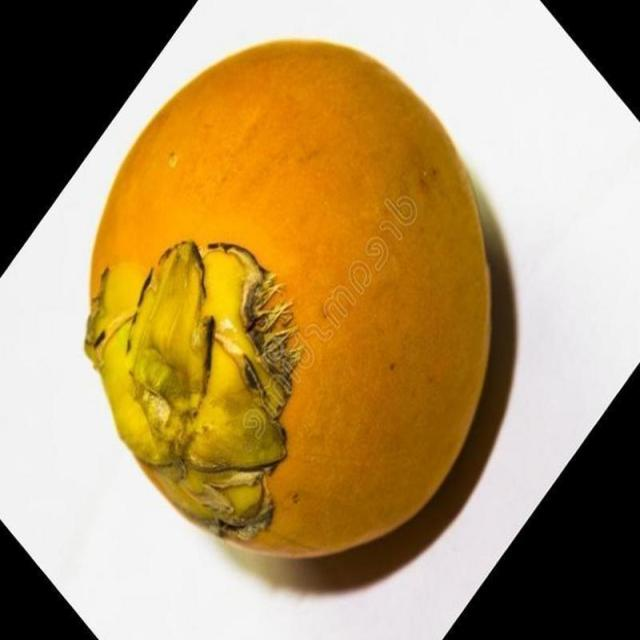good: (82, 39, 513, 563)
